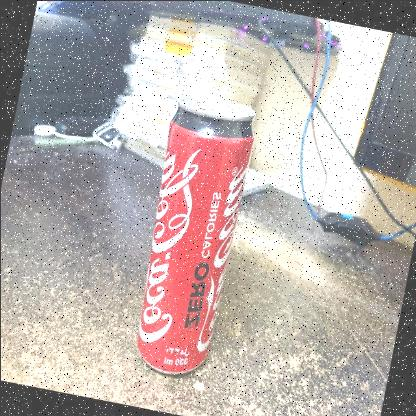Can: (114, 76, 272, 390)
